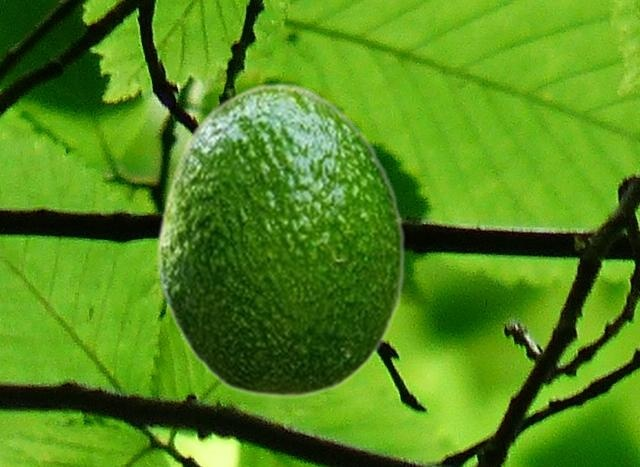avocado: (157, 82, 405, 397)
